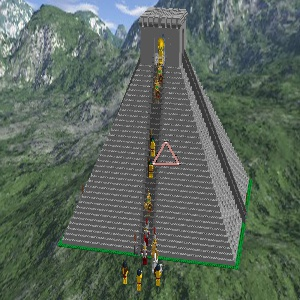triangle: (150, 141, 181, 168)
